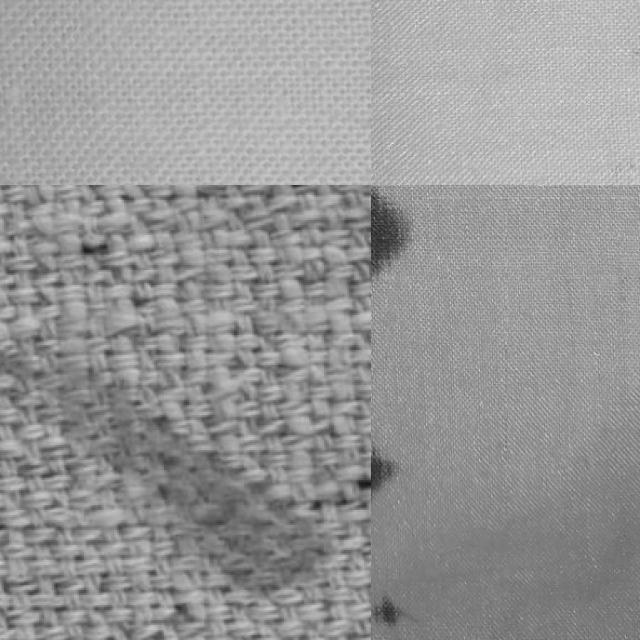Thread_other: (371, 185, 435, 318), (371, 395, 433, 531), (371, 588, 426, 640)
